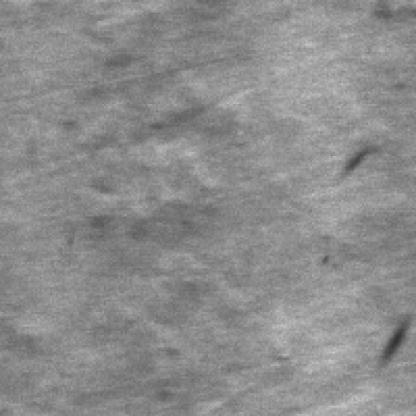rolled-in_scale: (52, 95, 196, 235)
